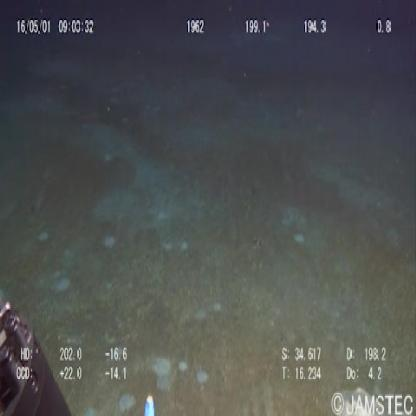Rov: (1, 293, 77, 413)
